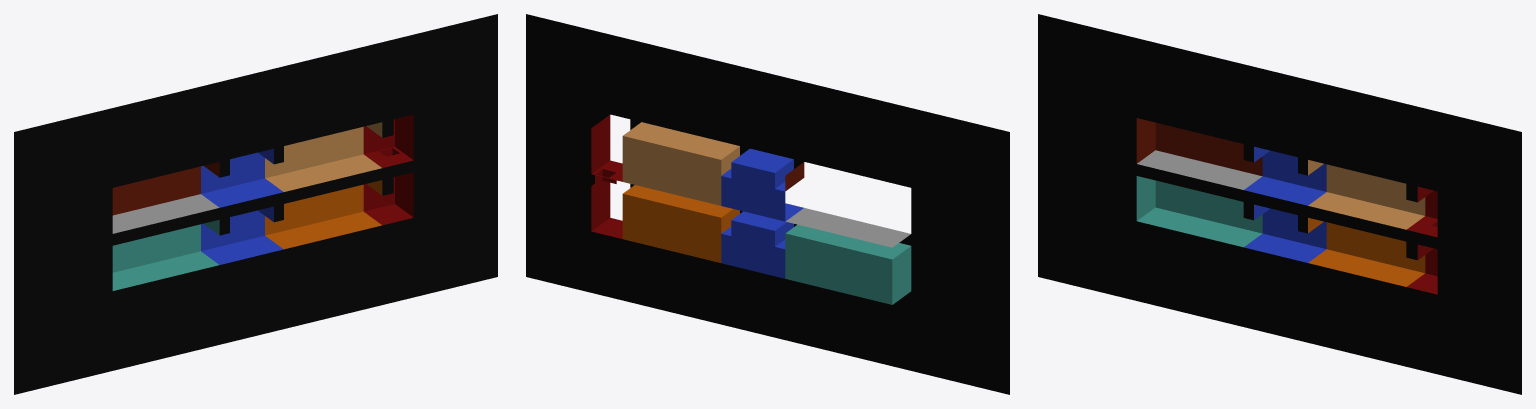
Rendered from MDL_BaseStructure.FBX.
3 views of the same model, side by side, from view 1: azimuth 30°, elevation 25°; view 2: azimuth 150°, elevation 25°; view 3: azimuth 330°, elevation 25° (orthographic).
Visible parts, largest first — view 1: Plane003; view 2: Plane003; view 3: Plane003.
Boxes of the visible parts, x1,y1,x2,y2 form: Plane003: (14, 14, 497, 394); Plane003: (526, 14, 1009, 394); Plane003: (1038, 14, 1521, 394).
Bounding box in the file's own units: 1414 × 734 × 95.43.
